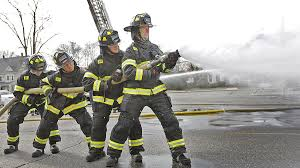emergent: (122, 14, 191, 168), (87, 30, 122, 157), (7, 54, 48, 160), (47, 54, 89, 154)
